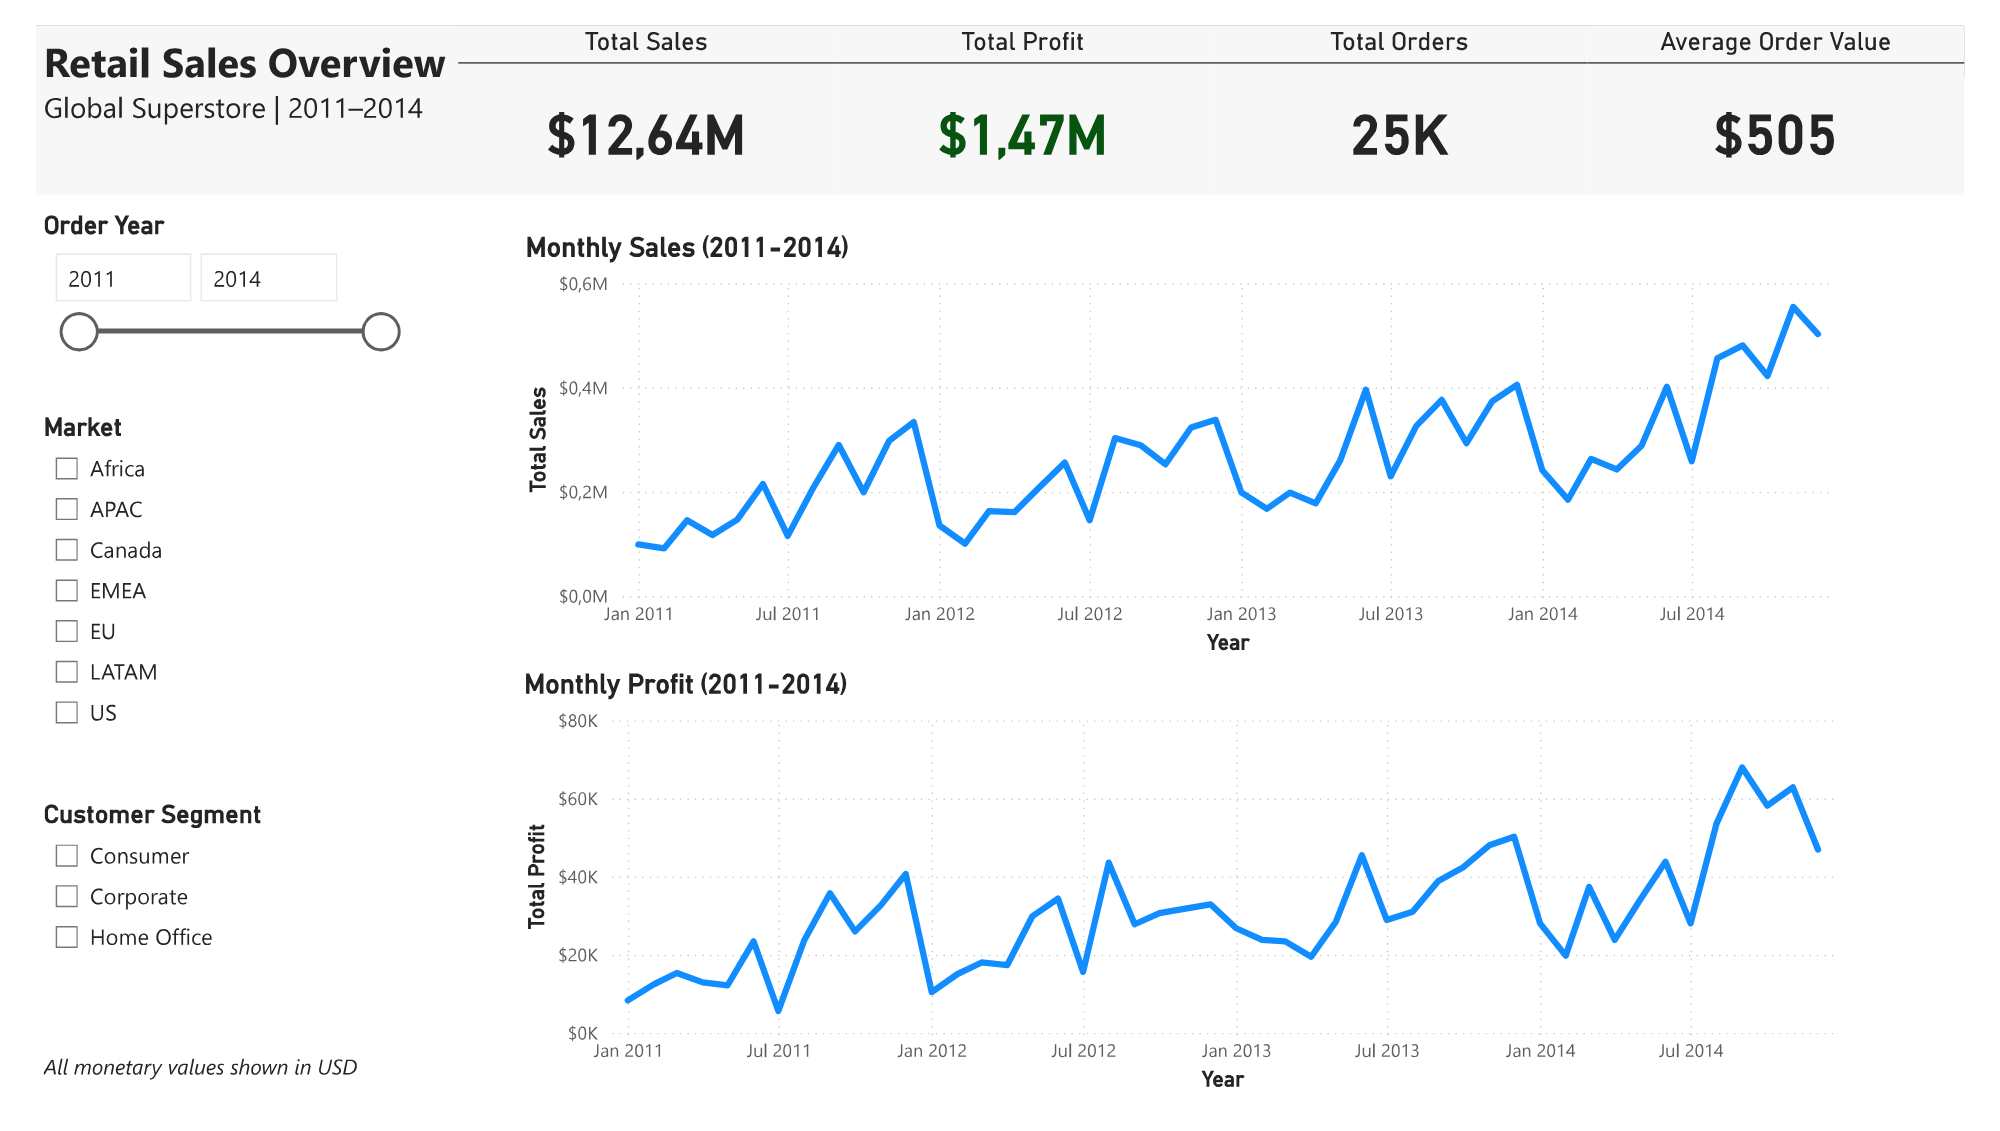

The dashboard page shown, as its layout file describes it:
{"tool":"powerbi","page":{"name":"Retail Sales Overview","canvas":[1280,720],"ordinal":0},"visuals":[{"type":"lineChart","title":"Monthly Sales (2011-2014)","fields":{"Y":["fact_sales.Total Sales"],"Category":["fact_sales.order_ym.Variation.Date Hierarchy.Year","fact_sales.order_ym.Variation.Date Hierarchy.Quarter","fact_sales.order_ym.Variation.Date Hierarchy.Month","fact_sales.order_ym.Variation.Date Hierarchy.Day"]},"box":[319.8,136,890,286],"z":0},{"type":"lineChart","title":"Monthly Profit (2011-2014)","fields":{"Y":["fact_sales.Total Profit"],"Category":["fact_sales.order_ym.Variation.Date Hierarchy.Year","fact_sales.order_ym.Variation.Date Hierarchy.Quarter","fact_sales.order_ym.Variation.Date Hierarchy.Month","fact_sales.order_ym.Variation.Date Hierarchy.Day"]},"box":[319.4,426.3,890.5,286],"z":1000},{"type":"card","title":"Total Sales","fields":{"Values":["fact_sales.Total Sales"]},"box":[280.2,0,250,111.6],"z":2000},{"type":"card","title":"Total Profit","fields":{"Values":["fact_sales.Total Profit"]},"box":[530.2,0,250,111.6],"z":3000},{"type":"card","title":"Total Orders","fields":{"Values":["fact_sales.Total Orders"]},"box":[780.2,0,250,111.6],"z":4000},{"type":"card","title":"Average Order Value","fields":{"Values":["fact_sales.Average Order Value"]},"box":[1030.2,0,250,111.6],"z":5000},{"type":"textbox","box":[0,0,280,111.6],"z":6000},{"type":"slicer","title":"Order Year","fields":{"Values":["fact_sales.order_year"]},"box":[0,121.8,250.1,123],"z":7000},{"type":"slicer","title":"Market","fields":{"Values":["fact_sales.market"]},"box":[0,255.6,250.1,226],"z":8000},{"type":"slicer","title":"Customer Segment","fields":{"Values":["fact_sales.segment"]},"box":[0,513.4,250.1,110.8],"z":9000},{"type":"textbox","box":[0,675.6,231.5,36.8],"z":10000}]}

Visuals, with their boxes in screenshot pixels (x1, y1, x2, y2), scaled from the page's 1280x720 canvas onto the 2000x1131 screenshot:
"Monthly Sales (2011-2014)" lineChart: <bbox>500, 214, 1890, 663</bbox>
"Monthly Profit (2011-2014)" lineChart: <bbox>499, 670, 1890, 1119</bbox>
"Total Sales" card: <bbox>438, 0, 828, 175</bbox>
"Total Profit" card: <bbox>828, 0, 1219, 175</bbox>
"Total Orders" card: <bbox>1219, 0, 1610, 175</bbox>
"Average Order Value" card: <bbox>1610, 0, 1999, 175</bbox>
textbox: <bbox>0, 0, 438, 175</bbox>
"Order Year" slicer: <bbox>0, 191, 391, 385</bbox>
"Market" slicer: <bbox>0, 402, 391, 757</bbox>
"Customer Segment" slicer: <bbox>0, 806, 391, 981</bbox>
textbox: <bbox>0, 1061, 362, 1119</bbox>
